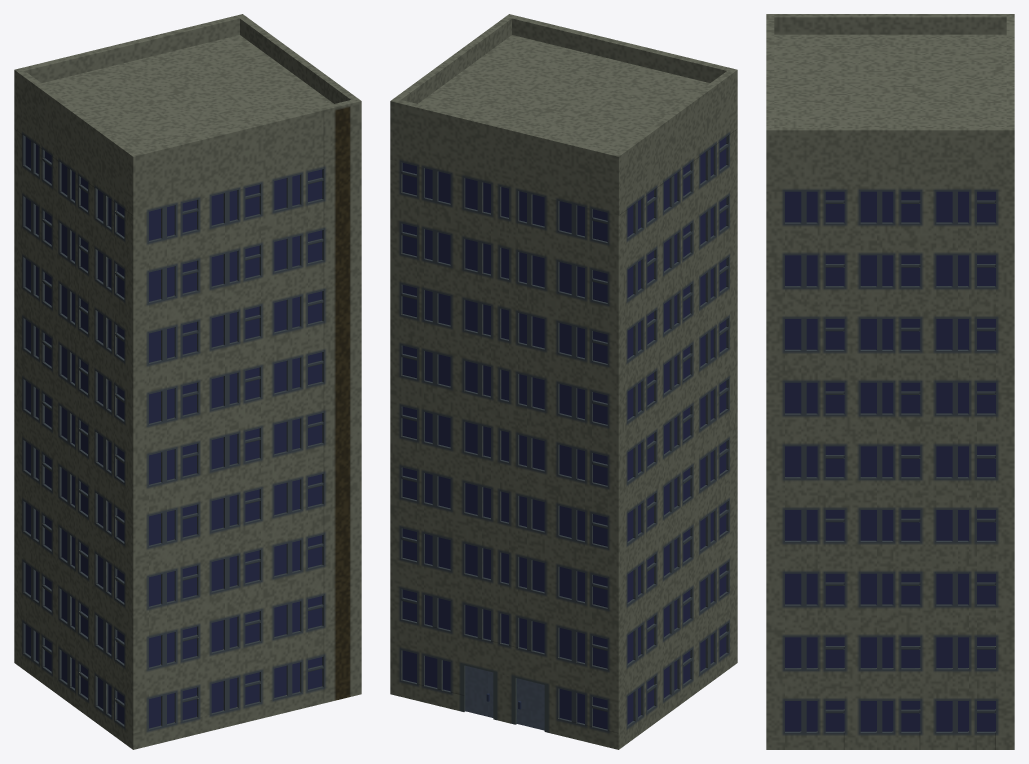
Rendered from big_dielnia_bulding.dae.
The picture shows the model from 3 angles, left to right: view 1: azimuth 30°, elevation 25°; view 2: azimuth 150°, elevation 25°; view 3: azimuth 270°, elevation 25°; orthographic projection. The views are drawn at different scales.
Visible parts, largest first — view 1: Content; view 2: Content; view 3: Content.
Part boxes in pixels (<box>): Content: <box>14,14,361,749</box>; Content: <box>390,14,737,749</box>; Content: <box>766,14,1014,749</box>.
Size of the model in its own units: 102 by 253 by 92.
1 material, 1 textured.
